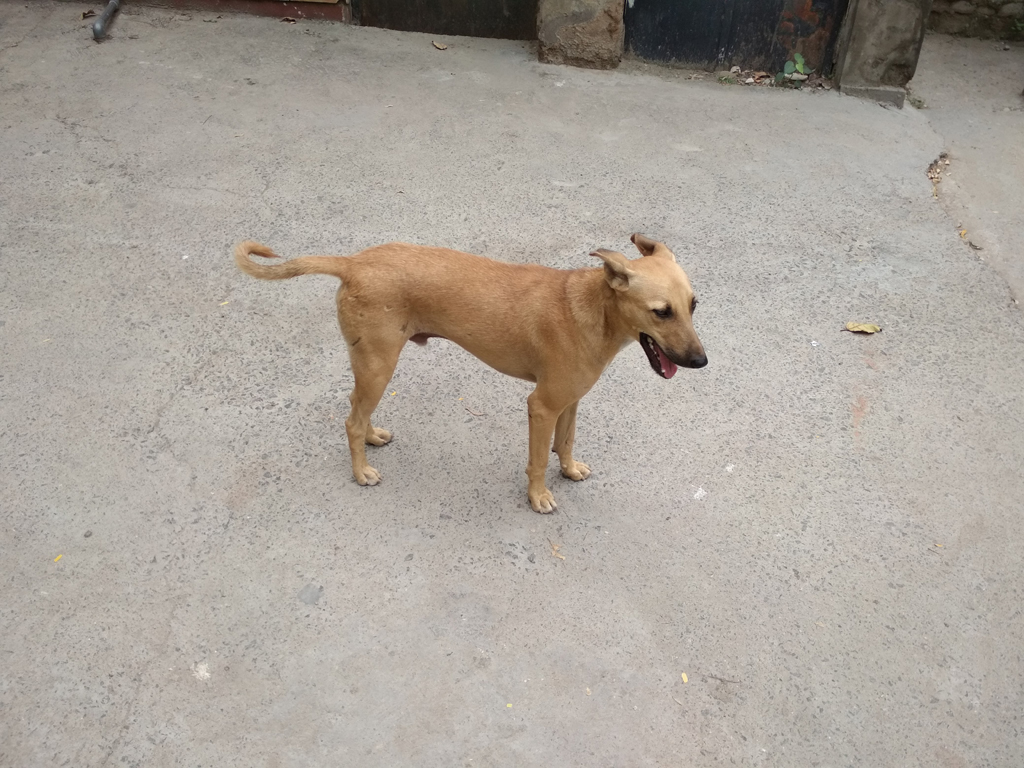dog: (233, 231, 711, 513)
